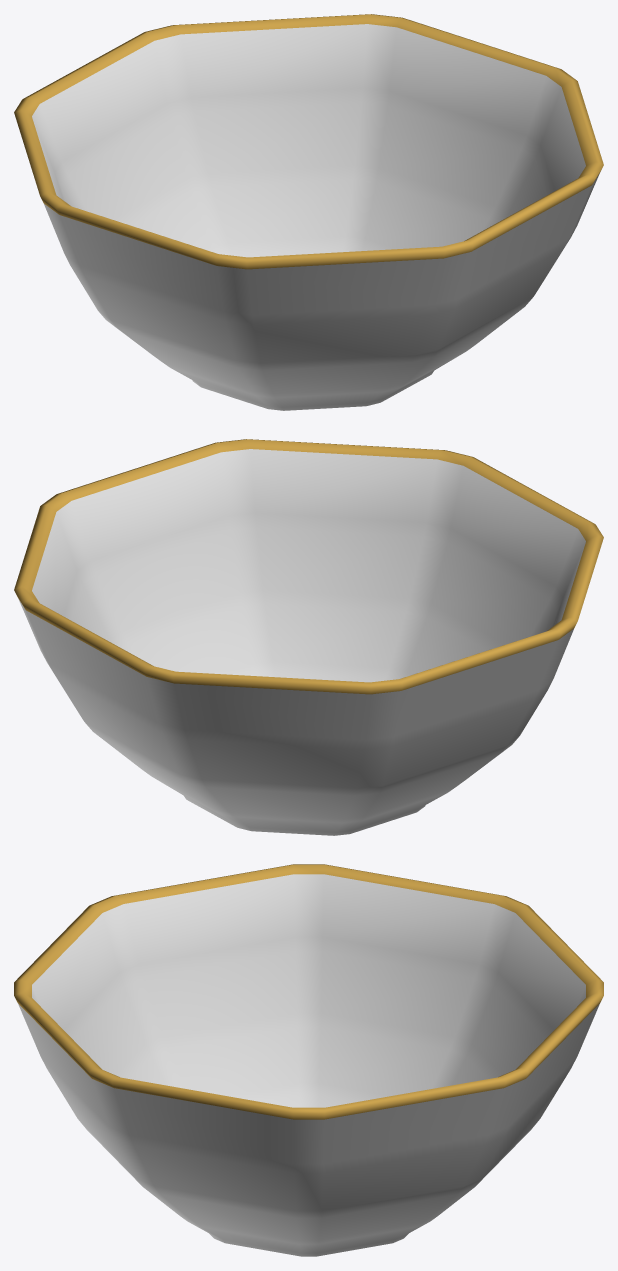
The model's file is jadalnia_miska.fbx.
The picture shows the model from 3 angles, top to bottom: view 1: azimuth 30°, elevation 25°; view 2: azimuth 150°, elevation 25°; view 3: azimuth 270°, elevation 25°; orthographic projection. The views are drawn at different scales.
Visible parts, largest first — view 1: Sphere; view 2: Sphere; view 3: Sphere.
Part boxes in pixels (left/top/right/bottom): Sphere: left=14, top=14, right=603, bottom=410; Sphere: left=14, top=439, right=603, bottom=835; Sphere: left=14, top=864, right=603, bottom=1256.
Bounding box in the file's own units: 51.82 × 21.2 × 51.82.
